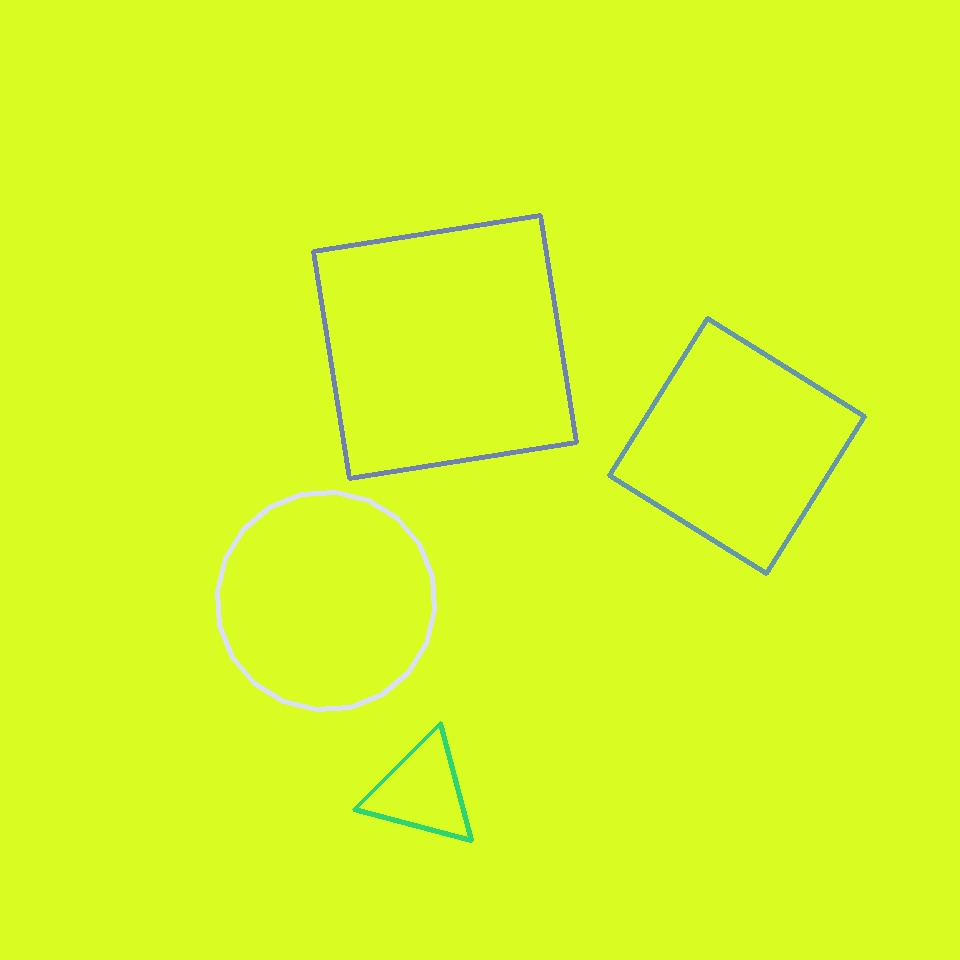circle: (364, 732, 480, 850)
square: (314, 215, 576, 478), (610, 318, 864, 574)
triangle: (218, 493, 434, 710)
